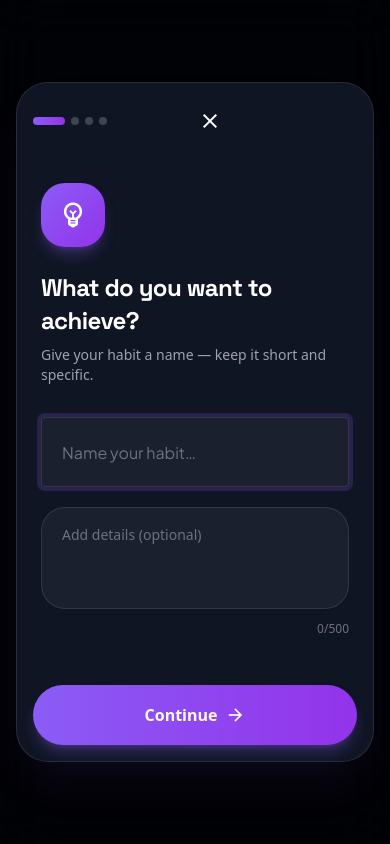
Test: NewHabitModal › discard guard › asks for confirmation instead of closing when name was typed
Type "My Habit" into the field with placeholder "Name your habit…". click: coordinates (195, 452)
box: [41,417,349,487]
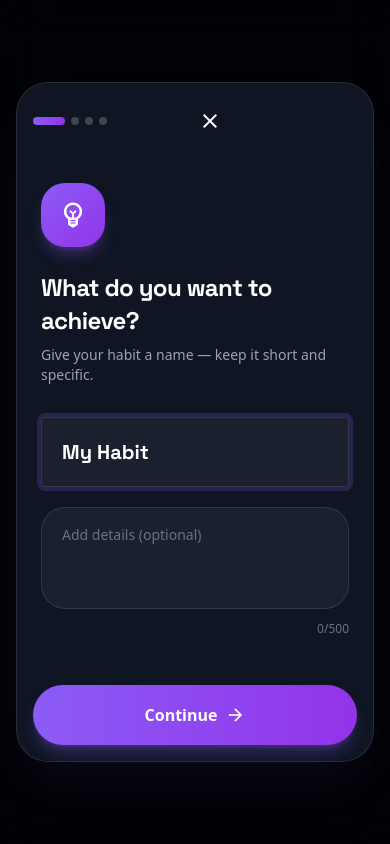
Click the button named "close". click: coordinates (210, 121)
box: [188,99,232,143]
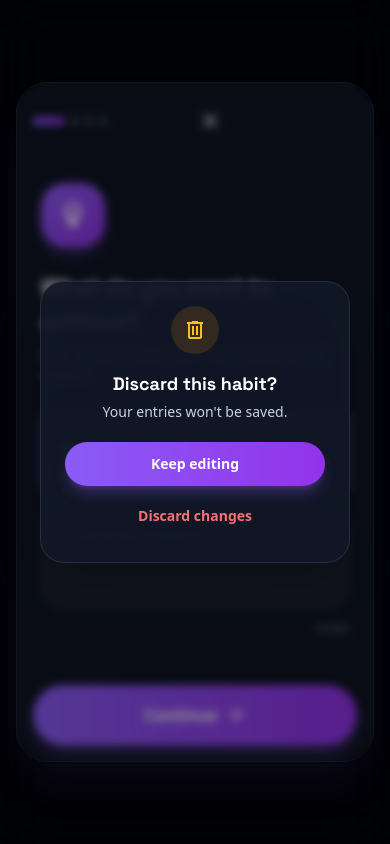
Now the dialog is shown, box [40,281,350,563]
Now the heading "Discard this habit?" is shown, box [113,372,277,395]
